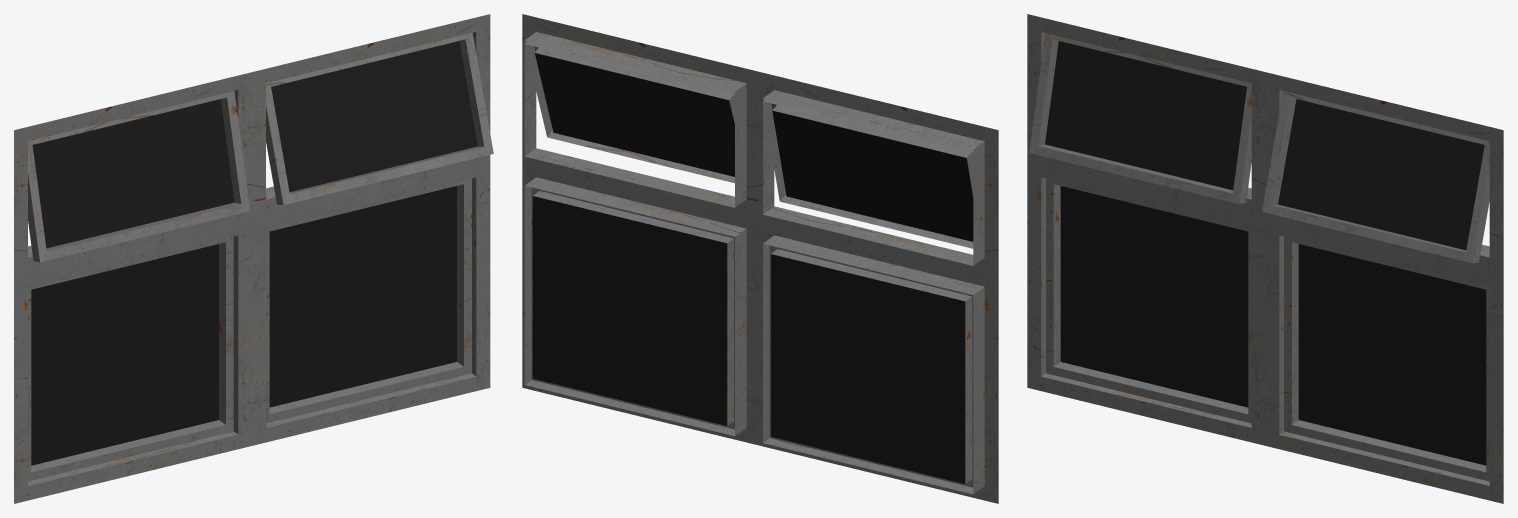
Rendered from window_002_008_25.gltf.
3 renders of one model, left to right at view 1: azimuth 30°, elevation 25°; view 2: azimuth 150°, elevation 25°; view 3: azimuth 330°, elevation 25°, orthographic.
Visible parts, largest first — view 1: Window_002.008_25; view 2: Window_002.008_25; view 3: Window_002.008_25.
Boxes of the visible parts, box(x1,y1,x2,y2) form: Window_002.008_25: box(14, 14, 493, 503); Window_002.008_25: box(522, 14, 998, 503); Window_002.008_25: box(1027, 14, 1503, 503).
Size of the model in its own units: 1.2 by 0.9 by 0.1258.
Materials: 2 (1 with a texture image).
